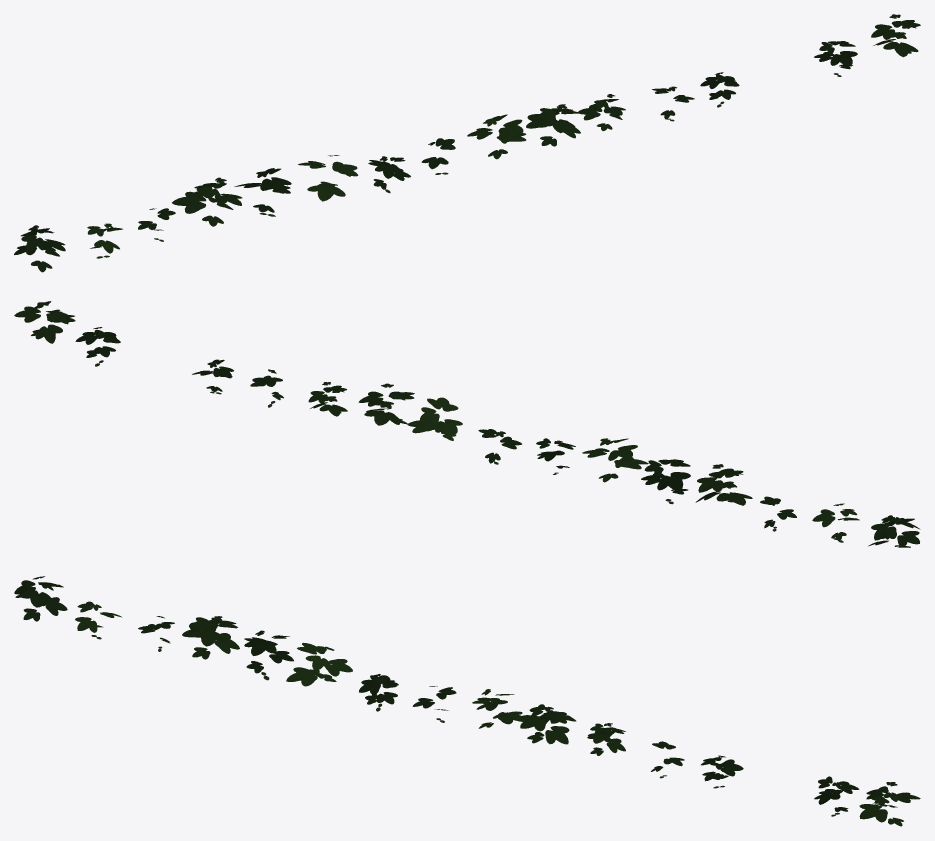
File: ROW_22_SEG4_foliage.dae
3 views of the same model, one above another, from view 1: azimuth 30°, elevation 25°; view 2: azimuth 150°, elevation 25°; view 3: azimuth 330°, elevation 25° (orthographic).
Visible parts, largest first — view 1: ROW_22_SEG4_foliage; view 2: ROW_22_SEG4_foliage; view 3: ROW_22_SEG4_foliage.
Boxes of the visible parts, box(x1,y1,x2,y2) form: ROW_22_SEG4_foliage: box(14, 14, 920, 272); ROW_22_SEG4_foliage: box(14, 301, 920, 547); ROW_22_SEG4_foliage: box(14, 576, 920, 826).
Size of the model in its own units: 4.87 by 0.3303 by 0.2584.
